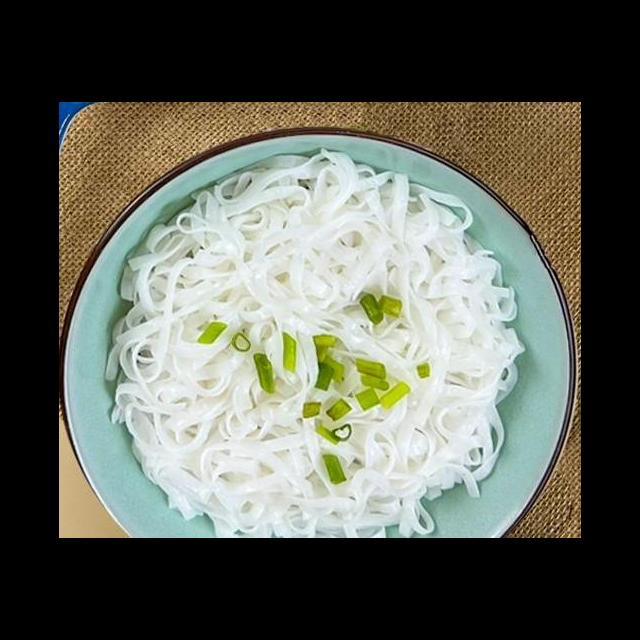banh pho: (102, 142, 529, 538)
